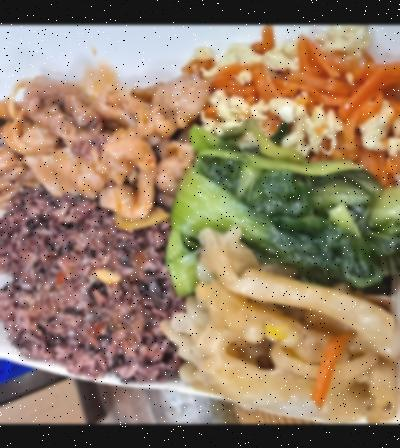box: (0, 73, 400, 424)
purple rice: (0, 191, 180, 373)
side dish: (163, 234, 400, 420), (162, 140, 400, 293), (188, 24, 400, 164)
thai pork: (0, 72, 203, 209)
